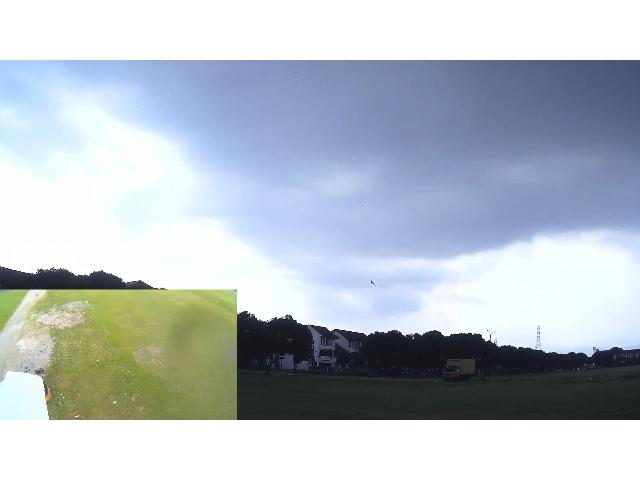Anti-Drone: (368, 276, 380, 288)
